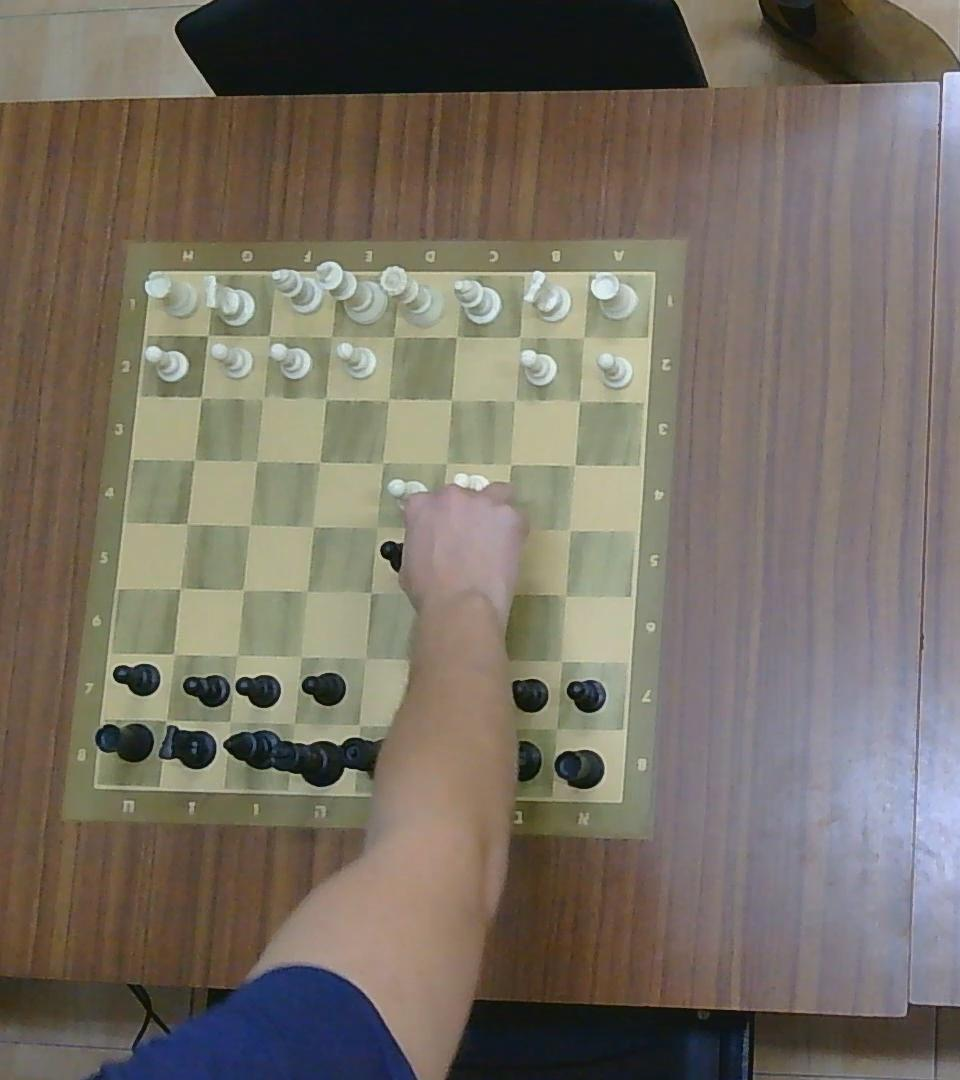xcorner: (426, 448, 464, 479), (434, 382, 468, 416), (493, 384, 529, 415), (153, 639, 190, 669), (252, 320, 286, 351), (494, 449, 529, 478), (418, 578, 454, 606), (538, 715, 571, 745), (471, 578, 506, 606), (380, 320, 410, 352), (162, 575, 198, 601), (309, 382, 339, 413), (300, 510, 330, 541), (241, 444, 270, 476), (351, 576, 384, 603), (548, 581, 581, 608), (466, 713, 499, 740), (211, 706, 241, 735), (172, 508, 200, 539), (373, 383, 400, 415), (439, 323, 469, 351), (562, 386, 594, 412), (410, 723, 442, 749), (187, 383, 217, 410), (339, 710, 370, 736), (247, 386, 279, 411), (426, 522, 459, 546), (555, 518, 588, 542), (506, 321, 534, 349), (357, 513, 385, 540), (306, 447, 332, 476), (365, 448, 394, 474), (565, 325, 596, 349), (152, 707, 176, 738), (277, 709, 306, 734), (545, 649, 575, 673), (196, 321, 222, 348), (560, 453, 588, 478), (294, 576, 318, 605), (221, 640, 247, 666), (316, 324, 344, 348), (183, 444, 207, 472), (476, 649, 505, 672), (236, 512, 263, 536), (485, 523, 512, 547), (231, 575, 254, 603), (288, 647, 314, 670), (354, 644, 375, 670), (421, 650, 442, 674)
